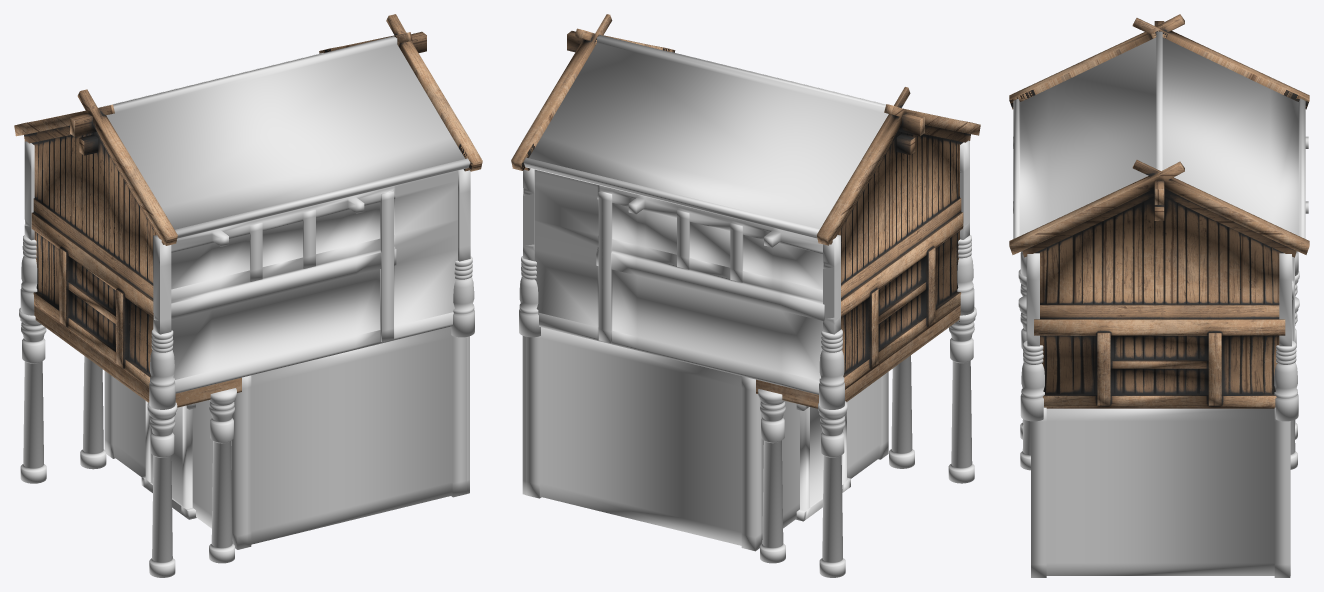
File: House1.fbx
3 views of the same model, side by side, from view 1: azimuth 30°, elevation 25°; view 2: azimuth 150°, elevation 25°; view 3: azimuth 270°, elevation 25° (orthographic). The views are drawn at different scales.
Visible parts, largest first — view 1: stena_verh2, Krovly, Stena_niz, Stena_verh1, Stena_niz.003, Kolona1.002, Kolona1.001, Kolonna2, Kolona1.003, Stena_verh1.001, Dver, Kolonna2.001 (+3 smaller); view 2: stena_verh2.001, Krovly, Stena_niz.001, Stena_verh1, Stena_niz.003, Kolona1.004, Kolona1.003, Kolona1.001, Kolonna2.002, Stena_verh1.001, Dver, Kolonna2.003 (+4 smaller); view 3: Stena_verh1.001, Stena_niz.002, Krovly, Stena_verh1, Kolonna2.003, Kolonna2.001, Kolona1.002, Kolona1.004.
Part boxes in pixels (bbox=[...]): stena_verh2: bbox=[171, 170, 457, 393]; Krovly: bbox=[98, 36, 470, 238]; Stena_niz: bbox=[231, 326, 466, 549]; Stena_verh1: bbox=[14, 89, 177, 389]; Stena_niz.003: bbox=[110, 375, 247, 549]; Kolona1.002: bbox=[209, 388, 236, 563]; Kolona1.001: bbox=[147, 402, 177, 577]; Kolonna2: bbox=[149, 235, 175, 409]; Kolona1.003: bbox=[19, 308, 46, 483]; Stena_verh1.001: bbox=[319, 14, 482, 171]; Dver: bbox=[141, 401, 196, 519]; Kolonna2.001: bbox=[451, 169, 474, 337]; stena_verh2.001: bbox=[534, 169, 824, 394]; Krovly: bbox=[523, 35, 904, 238]; Stena_niz.001: bbox=[525, 327, 761, 551]; Stena_verh1: bbox=[817, 87, 980, 389]; Stena_niz.003: bbox=[761, 376, 882, 543]; Kolona1.004: bbox=[758, 389, 785, 563]; Kolona1.003: bbox=[818, 401, 847, 577]; Kolona1.001: bbox=[948, 307, 976, 483]; Kolonna2.002: bbox=[819, 235, 844, 409]; Stena_verh1.001: bbox=[511, 14, 675, 170]; Dver: bbox=[796, 404, 850, 521]; Kolonna2.003: bbox=[519, 168, 540, 337]; Stena_verh1.001: bbox=[1009, 160, 1309, 408]; Stena_niz.002: bbox=[1031, 407, 1290, 577]; Krovly: bbox=[1013, 31, 1305, 238]; Stena_verh1: bbox=[1009, 14, 1309, 109]; Kolonna2.003: bbox=[1274, 253, 1298, 421]; Kolonna2.001: bbox=[1020, 253, 1044, 421]; Kolona1.002: bbox=[1018, 295, 1030, 470]; Kolona1.004: bbox=[1290, 296, 1299, 469].
Size of the model in its own units: 685 by 795 by 517.
